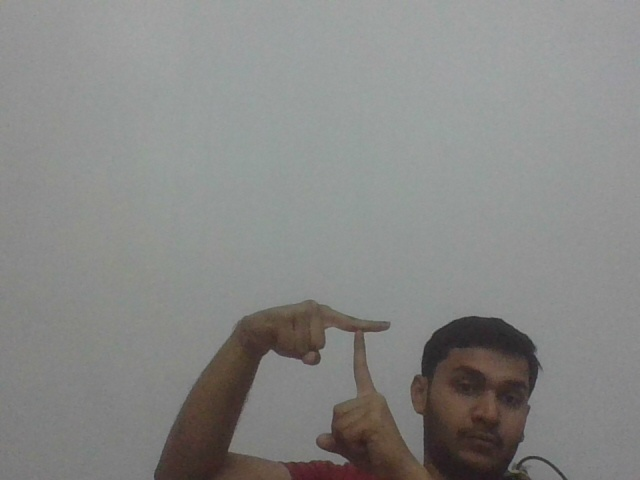T: (329, 303, 396, 393)
